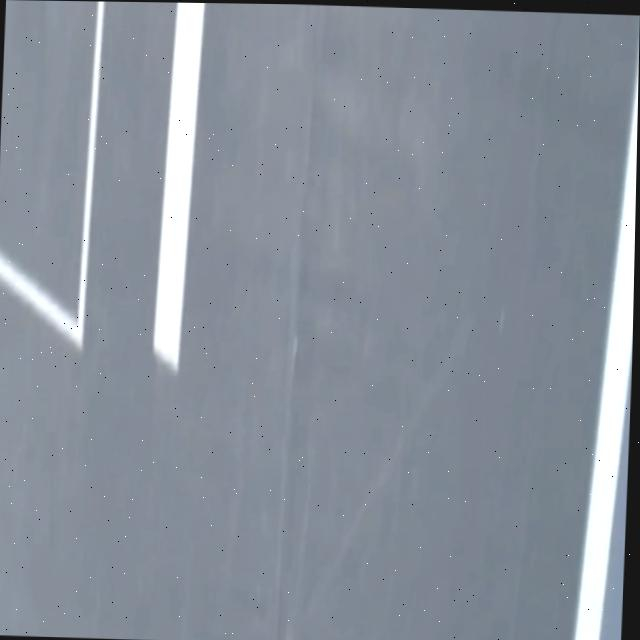center: (153, 3, 205, 373)
left: (574, 55, 639, 640)
